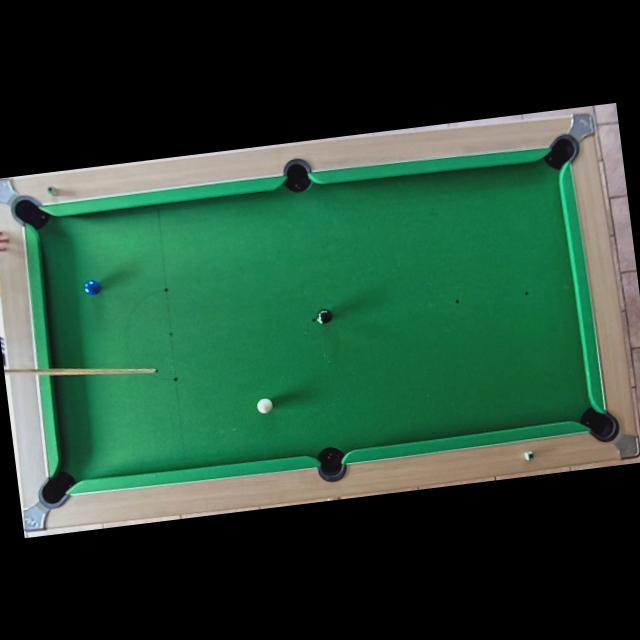Ball: (83, 278, 102, 296), (316, 308, 334, 326), (255, 396, 272, 414)
